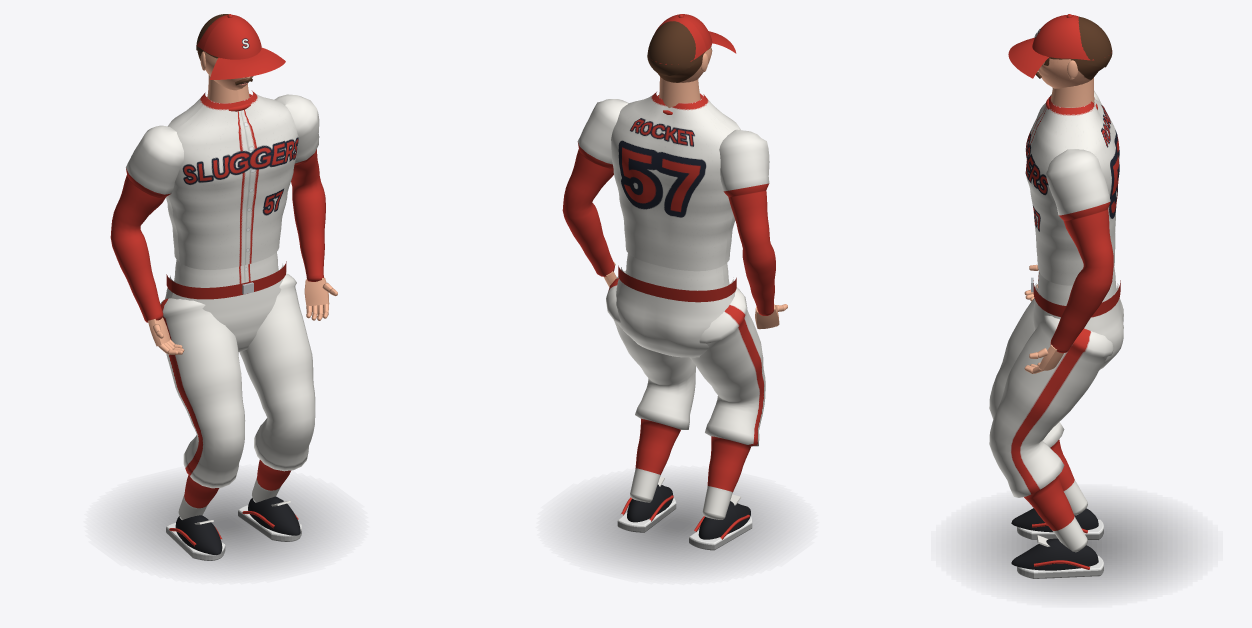
Rendered from player_28_home.glb.
3 views of the same model, side by side, from view 1: azimuth 30°, elevation 25°; view 2: azimuth 150°, elevation 25°; view 3: azimuth 270°, elevation 25° (orthographic). The views are drawn at different scales.
Visible parts, largest first — view 1: player_28_home, object 31, object 33, object 2; view 2: player_28_home, object 29, object 2, object 31; view 3: player_28_home, object 31, object 29, object 35, object 33, object 2.
Part boxes in pixels (x1=…): player_28_home: x1=110, y1=90, x2=334, y2=570; object 31: x1=196, y1=14, x2=261, y2=59; object 33: x1=209, y1=47, x2=285, y2=79; object 2: x1=207, y1=75, x2=249, y2=103; player_28_home: x1=562, y1=92, x2=785, y2=570; object 29: x1=647, y1=21, x2=711, y2=76; object 2: x1=659, y1=77, x2=700, y2=107; object 31: x1=652, y1=14, x2=712, y2=64; player_28_home: x1=966, y1=90, x2=1187, y2=592; object 31: x1=1032, y1=14, x2=1112, y2=60; object 29: x1=1049, y1=16, x2=1112, y2=67; object 35: x1=1038, y1=58, x2=1103, y2=88; object 33: x1=1008, y1=37, x2=1049, y2=78; object 2: x1=1051, y1=77, x2=1094, y2=107.
Size of the model in its own units: 3.4 by 6.29 by 3.4.
Materials: 27 (5 with a texture image).
